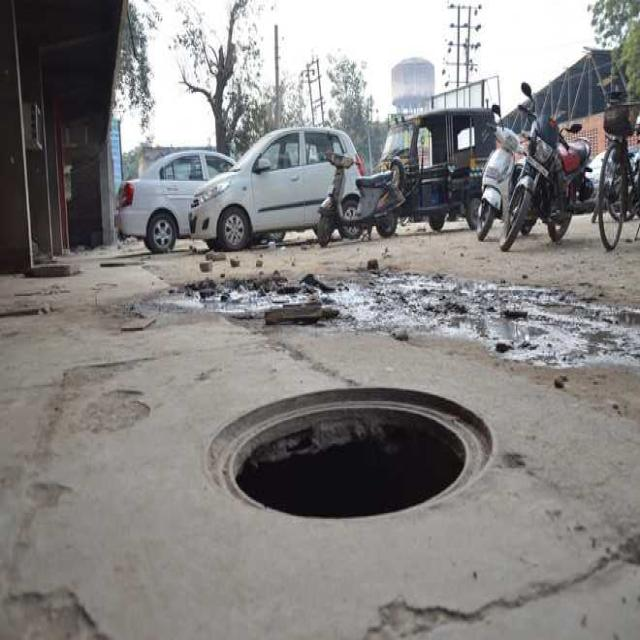Car: (189, 127, 354, 250), (117, 149, 235, 252)
Motorcycle: (500, 82, 596, 251), (317, 150, 405, 246)
